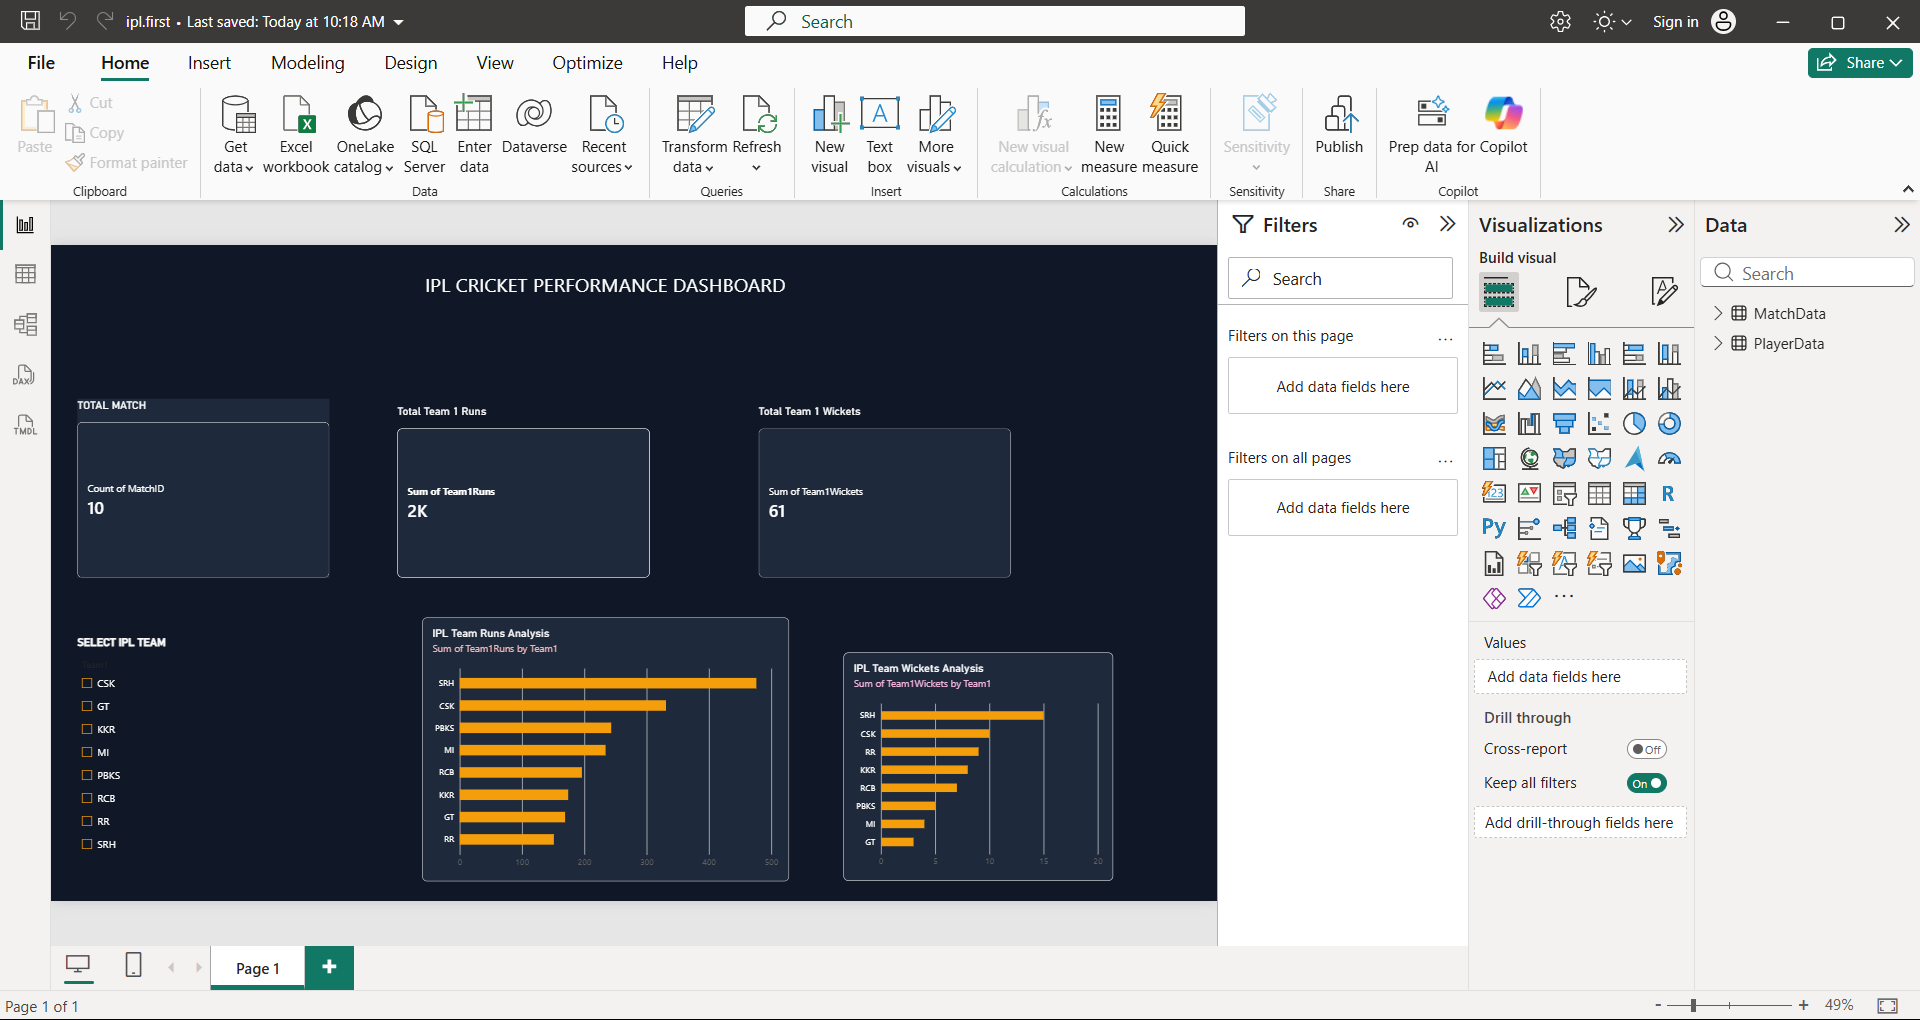

The dashboard page shown, as its layout file describes it:
{"tool":"powerbi","page":{"name":"Page 1","canvas":[1920,1080],"ordinal":0},"visuals":[{"type":"clusteredBarChart","title":"IPL Team Runs Analysis","fields":{"Category":["MatchData.Team1"],"Y":["Sum(MatchData.Team1Runs)"]},"box":[612,614,604,434],"z":0},{"type":"cardVisual","title":"TOTAL MATCH","fields":{"Data":["CountNonNull(MatchData.MatchID)"]},"box":[44,254,415,295],"z":1000},{"type":"cardVisual","title":"Total Team 1 Runs","fields":{"Data":["Sum(MatchData.Team1Runs)"]},"box":[570,264,416.7,285],"z":2000},{"type":"cardVisual","title":"Total Team 1 Wickets","fields":{"Data":["Sum(MatchData.Team1Wickets)"]},"box":[1166,264,416,285],"z":3000},{"type":"slicer","title":"SELECT IPL TEAM","fields":{"Values":["MatchData.Team1"]},"box":[44,644,490,372],"z":4000},{"type":"textbox","box":[2,44,1822,130],"z":5000},{"type":"clusteredBarChart","title":"IPL Team Wickets Analysis","fields":{"Category":["MatchData.Team1"],"Y":["Sum(MatchData.Team1Wickets)"]},"box":[1304,672,444,376],"z":5001}]}

Visuals, with their boxes in screenshot pixels (x1, y1, x2, y2):
"IPL Team Runs Analysis" clusteredBarChart: <bbox>575, 567, 1138, 971</bbox>
"TOTAL MATCH" cardVisual: <bbox>46, 232, 433, 506</bbox>
"Total Team 1 Runs" cardVisual: <bbox>536, 241, 924, 506</bbox>
"Total Team 1 Wickets" cardVisual: <bbox>1091, 241, 1478, 506</bbox>
"SELECT IPL TEAM" slicer: <bbox>46, 595, 502, 941</bbox>
textbox: <bbox>7, 36, 1704, 157</bbox>
"IPL Team Wickets Analysis" clusteredBarChart: <bbox>1220, 621, 1633, 971</bbox>
